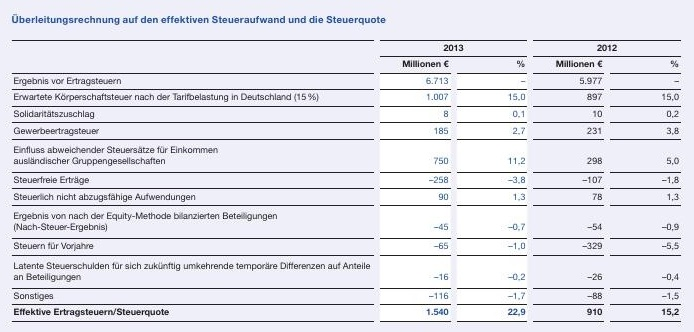table: (0, 0, 694, 332)
